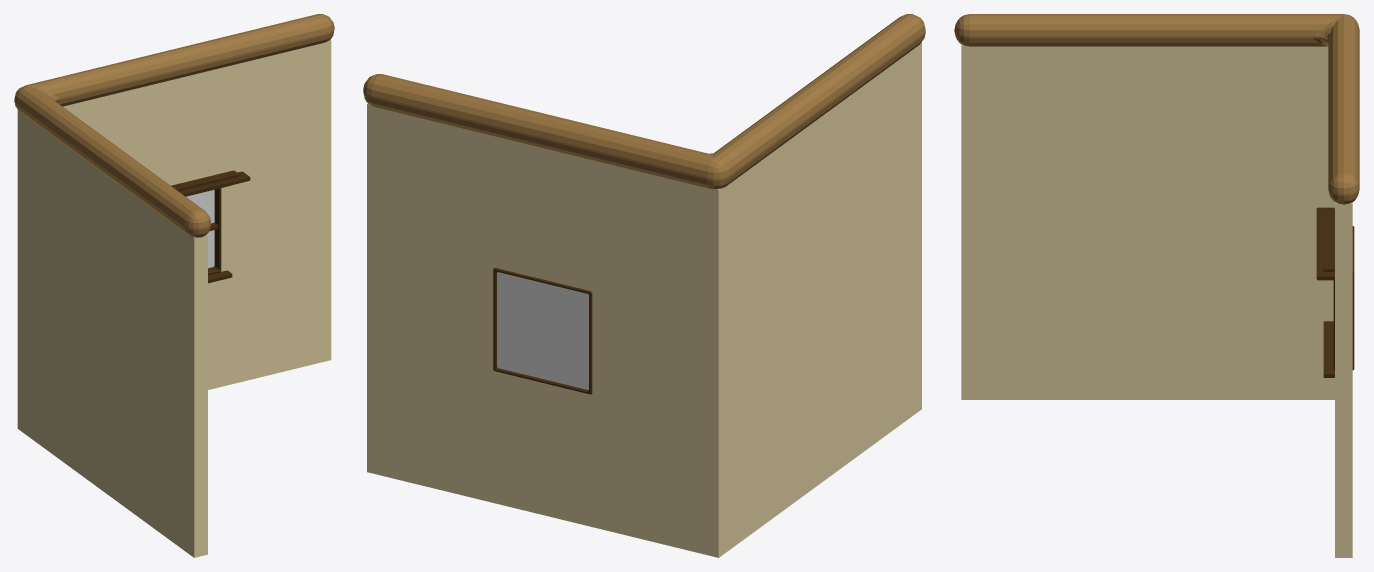
Rendered from CornerWallwithouttBrick04.fbx.
The picture shows the model from 3 angles, left to right: view 1: azimuth 30°, elevation 25°; view 2: azimuth 150°, elevation 25°; view 3: azimuth 270°, elevation 25°; orthographic projection. The views are drawn at different scales.
Visible parts, largest first — view 1: CornerWall-Window03.001; view 2: CornerWall-Window03.001; view 3: CornerWall-Window03.001.
Boxes of the visible parts, x1,y1,x2,y2 form: CornerWall-Window03.001: (14,14,334,557); CornerWall-Window03.001: (363,14,925,557); CornerWall-Window03.001: (954,14,1359,557).
Bounding box in the file's own units: 207 × 215 × 207.
